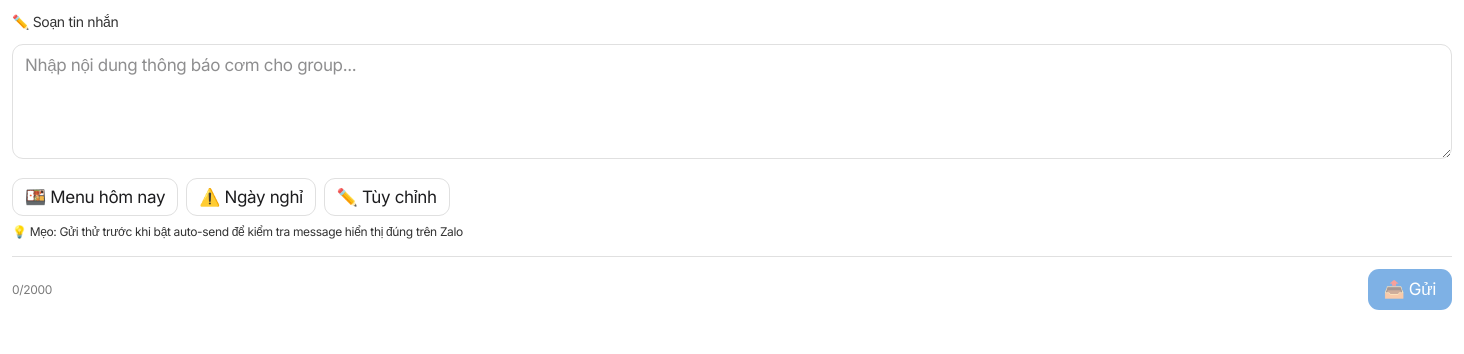
Test: SendTab › send button enabled after typing text
The image size is (1464, 354).
Type "Hello" into the text box with placeholder "Nhập nội dung thông báo cơm cho group...".
click(732, 102); type("Hello")  # box [12, 44, 1452, 159]
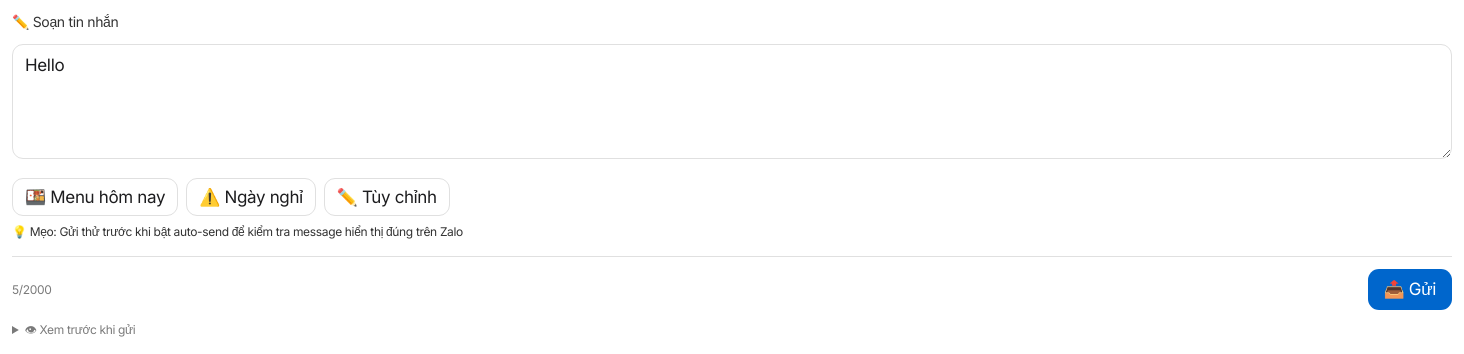
Expected: the button "📤 Gửi" is enabled, [1368, 269, 1452, 310]
